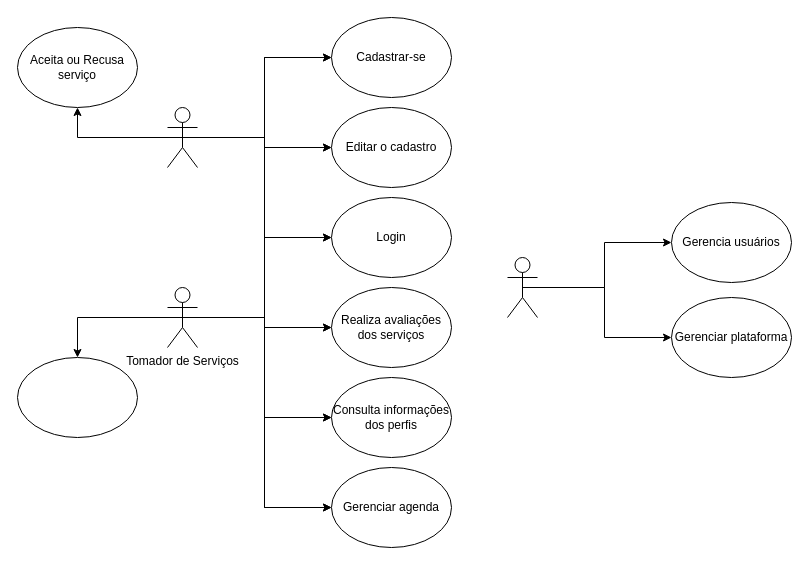
This 809x565 diagram has some shape labels left out. The centre of each missing label's shape, as x and y in pixels:
Administrador: point (522, 287)
Prestador de Serviços: point (182, 137)
Solicita o serviço: point (77, 397)
